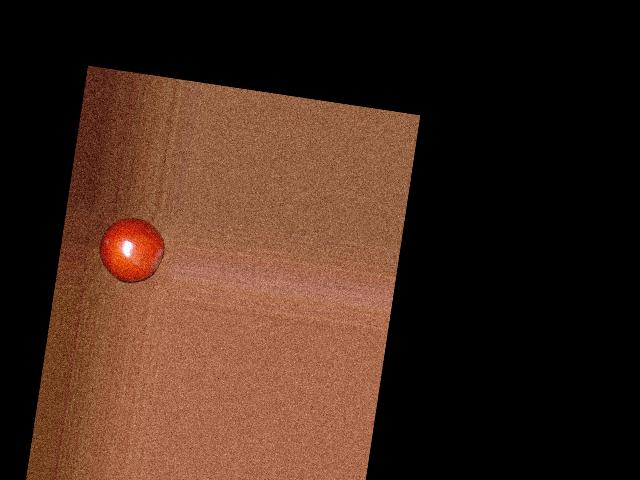tomato: (94, 212, 168, 286)
